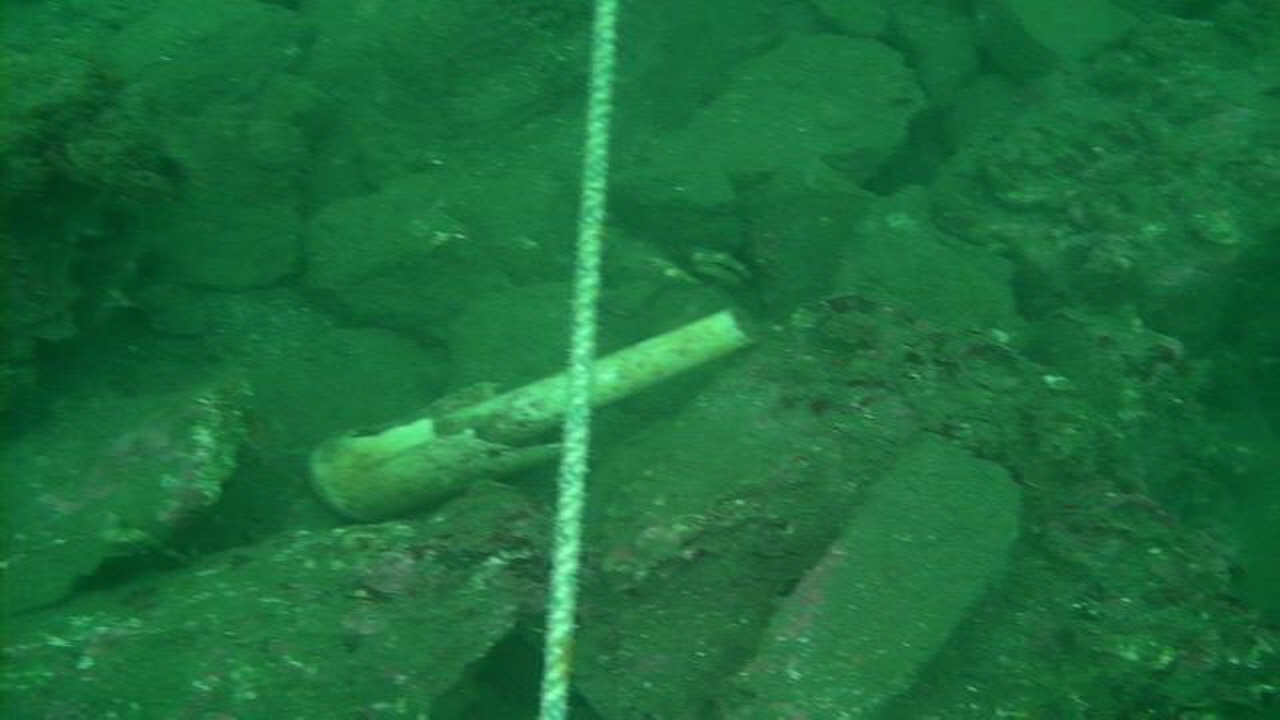rope: (537, 0, 622, 720)
